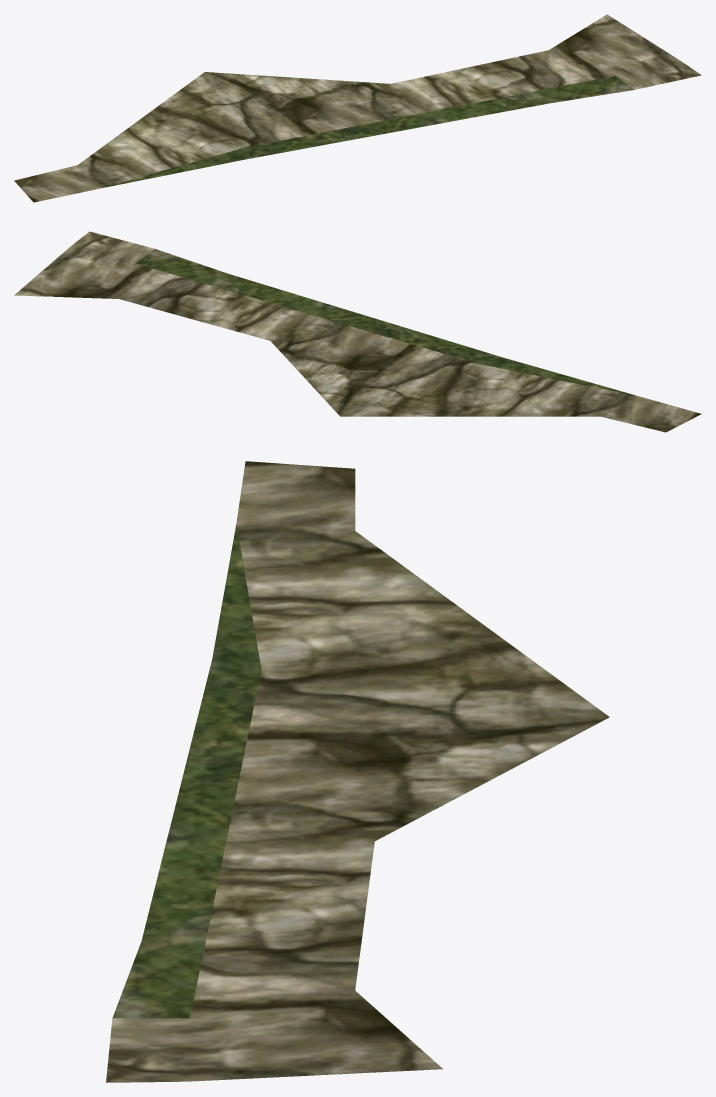
File: CB_NEWPLAYSURFACE_CB_PLAYSURFACE93.fbx
3 views of the same model, one above another, from view 1: azimuth 30°, elevation 25°; view 2: azimuth 150°, elevation 25°; view 3: azimuth 270°, elevation 25° (orthographic). The views are drawn at different scales.
Parts seen in each view (by area): view 1: CB_NEWPLAYSURFACE_CB_PLAYSURFACE93; view 2: CB_NEWPLAYSURFACE_CB_PLAYSURFACE93; view 3: CB_NEWPLAYSURFACE_CB_PLAYSURFACE93.
Boxes of the visible parts, bbox=[...] form: CB_NEWPLAYSURFACE_CB_PLAYSURFACE93: bbox=[14, 14, 701, 202]; CB_NEWPLAYSURFACE_CB_PLAYSURFACE93: bbox=[14, 231, 701, 432]; CB_NEWPLAYSURFACE_CB_PLAYSURFACE93: bbox=[106, 461, 609, 1082].
Bounding box in the file's own units: 174112 × 450 × 59989.
Materials: 2 (2 with a texture image).
